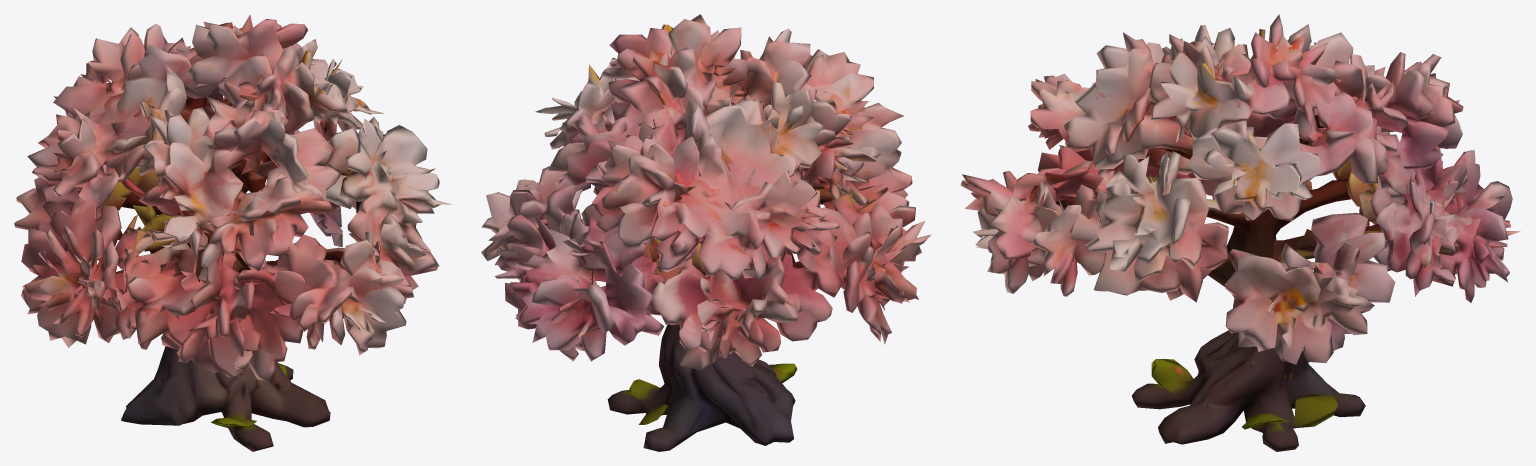
The model's file is cherry.glb.
3 views of the same model, side by side, from view 1: azimuth 30°, elevation 25°; view 2: azimuth 150°, elevation 25°; view 3: azimuth 270°, elevation 25° (orthographic). The views are drawn at different scales.
Parts seen in each view (by area): view 1: tripo_node_f50e2bc2-1660-4969-a3cb-3c1cb0959092; view 2: tripo_node_f50e2bc2-1660-4969-a3cb-3c1cb0959092; view 3: tripo_node_f50e2bc2-1660-4969-a3cb-3c1cb0959092.
Part boxes in pixels (bbox=[...]): tripo_node_f50e2bc2-1660-4969-a3cb-3c1cb0959092: bbox=[14, 14, 451, 451]; tripo_node_f50e2bc2-1660-4969-a3cb-3c1cb0959092: bbox=[481, 14, 931, 451]; tripo_node_f50e2bc2-1660-4969-a3cb-3c1cb0959092: bbox=[960, 14, 1520, 451].
Bounding box in the file's own units: 0.8503 × 0.7843 × 0.9966.
1 material, 1 textured.
